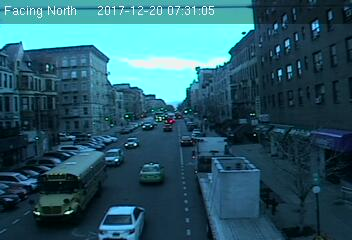car: (100, 204, 147, 240), (138, 162, 165, 184), (104, 148, 124, 166), (124, 137, 139, 150), (179, 135, 192, 145)
truck: (193, 136, 286, 240), (33, 151, 107, 224)
